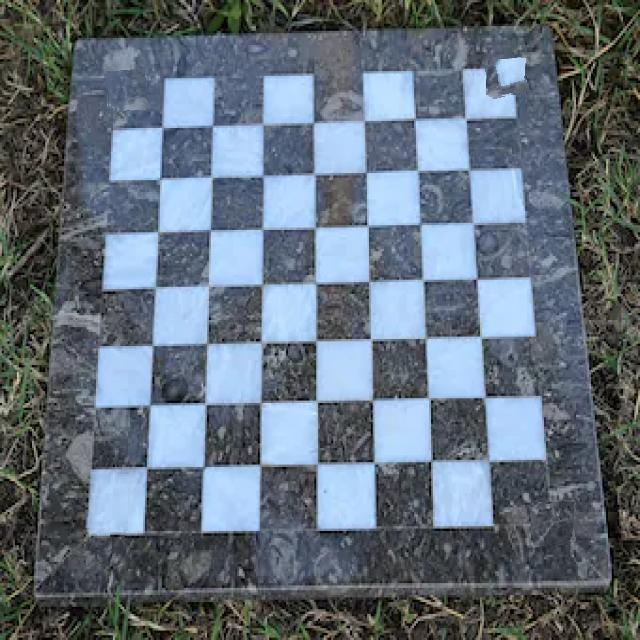chess-table-corners: (73, 516, 125, 566), (531, 502, 575, 546), (106, 70, 146, 112), (486, 58, 528, 97)
